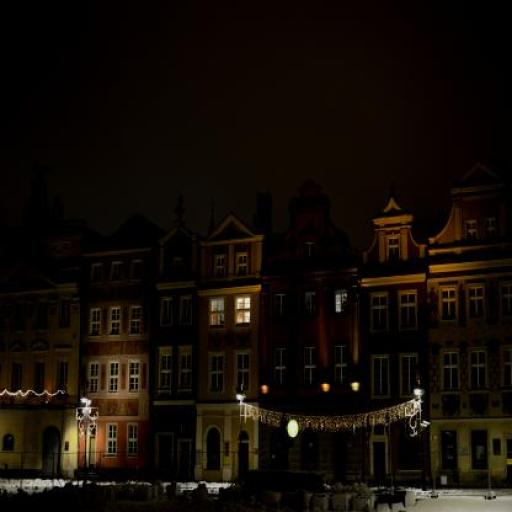street light: (414, 367, 425, 491), (81, 375, 94, 475), (235, 373, 247, 479)
